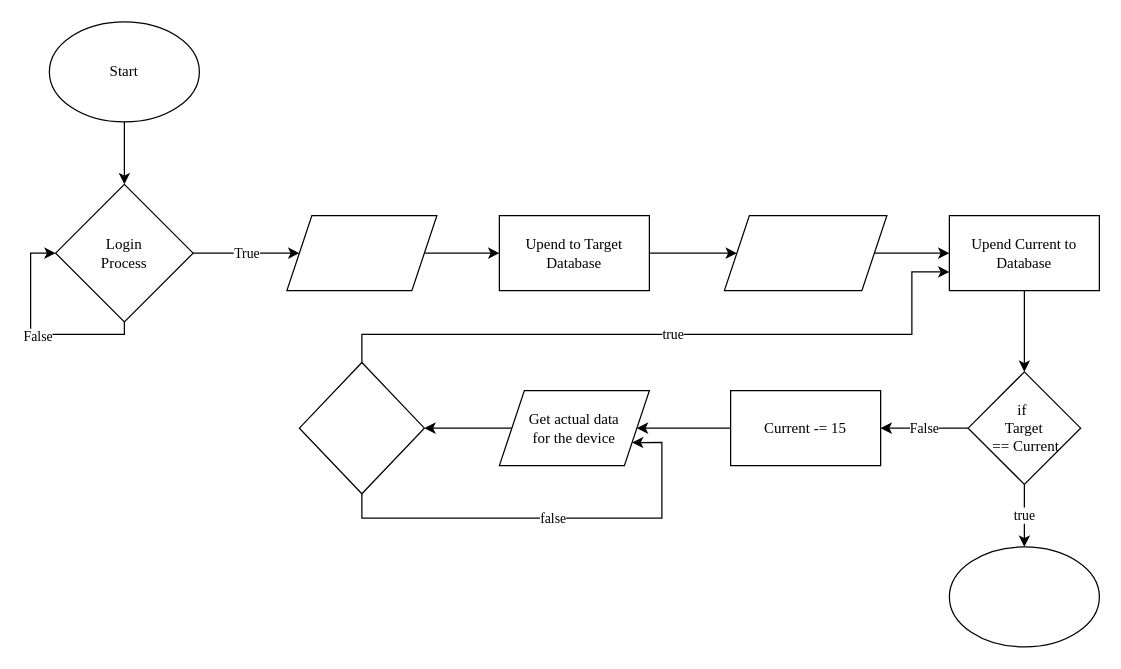
Image size: 1121x669. Some labels were removed from this diagram. The shapes that lost their labels are listed below. From the top down, each one's box as (x1, y1, x2, y2) in pixels, then its label:
(286, 214, 437, 291): Get Target sleep time
(723, 214, 887, 291): Get Current sleep time
(298, 361, 424, 494): if current == Actual current
(948, 546, 1099, 647): End
